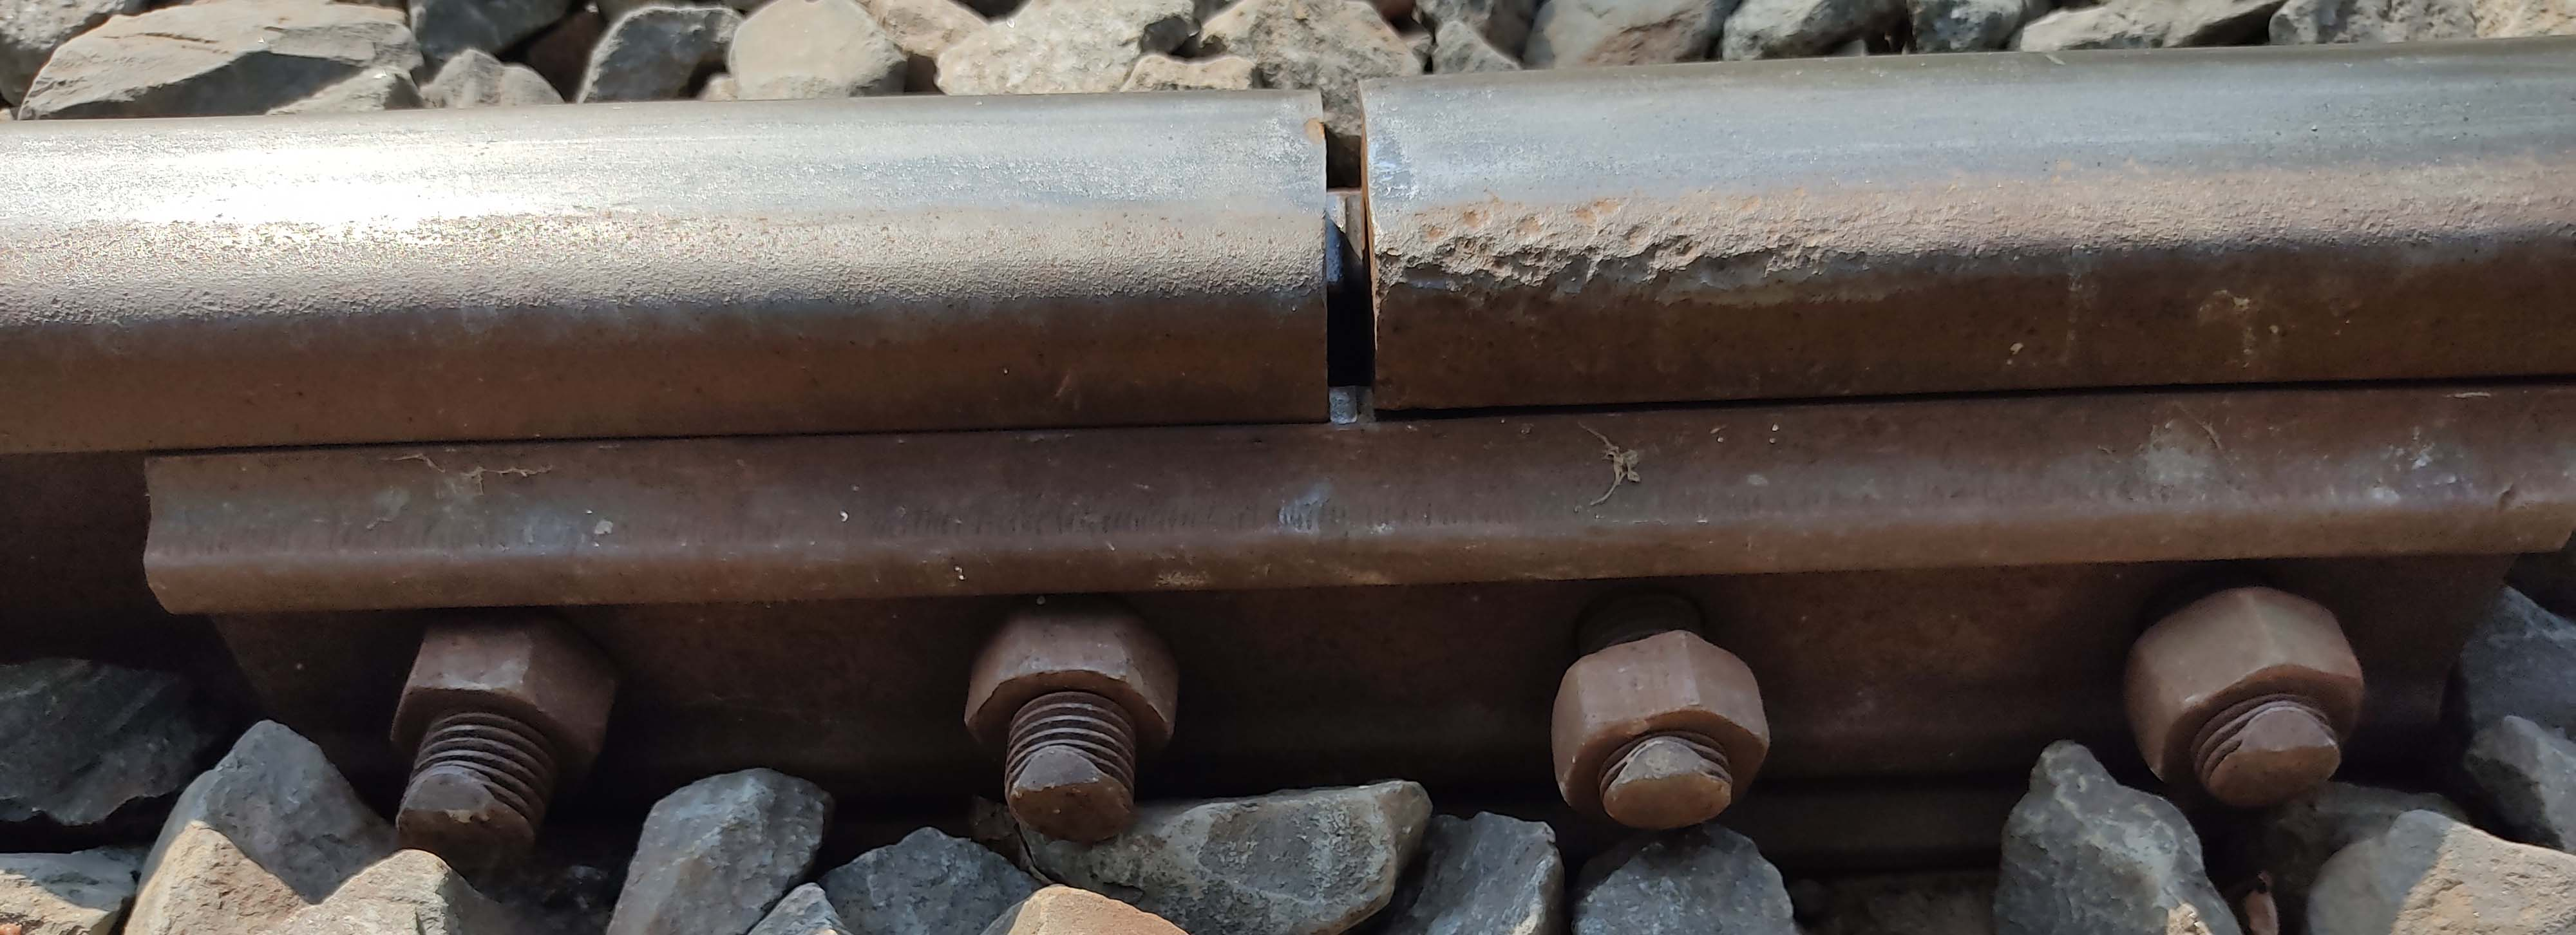error2: (1268, 46, 1447, 434)
